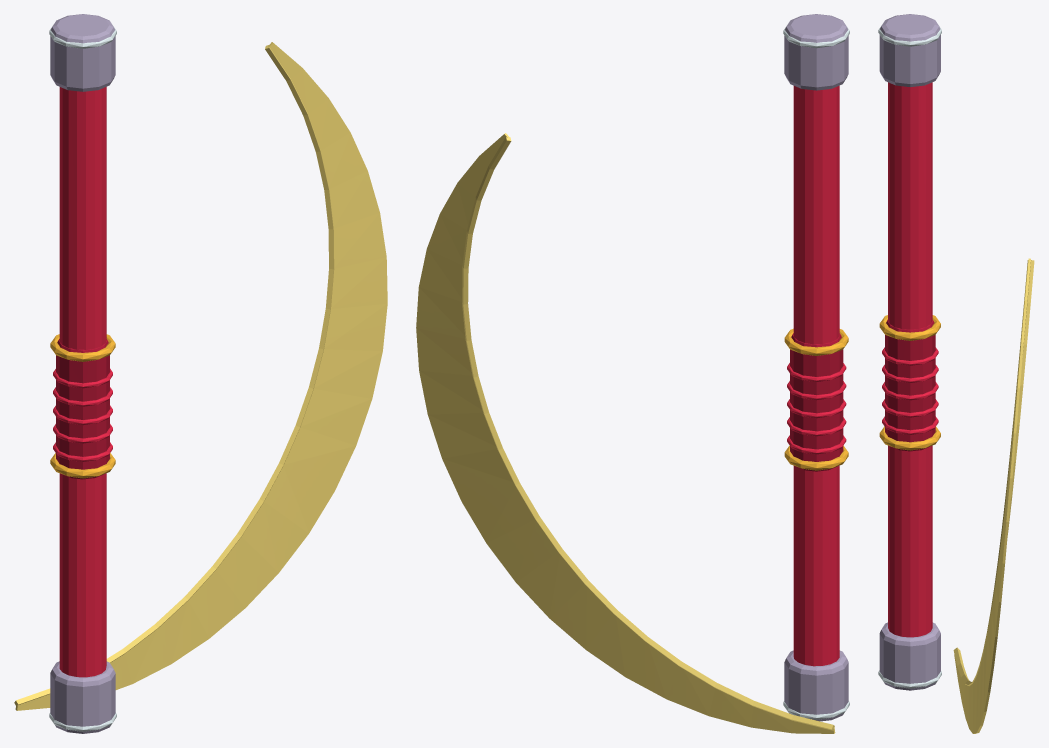
The model's file is PowerPole_GoldToy.fbx.
3 renders of one model, left to right at view 1: azimuth 30°, elevation 25°; view 2: azimuth 150°, elevation 25°; view 3: azimuth 270°, elevation 25°, orthographic. The views are drawn at different scales.
Visible parts, largest first — view 1: PowerPole_GoldToy__VFX__gold_energy, Handle, PowerPole_GoldToy__Body__gold, PowerPole_GoldToy__Body__stud_red, PowerPole_GoldToy__Body__hero_red, PowerPole_GoldToy__Body__silver; view 2: PowerPole_GoldToy__VFX__gold_energy, Handle, PowerPole_GoldToy__Body__gold, PowerPole_GoldToy__Body__stud_red, PowerPole_GoldToy__Body__hero_red, PowerPole_GoldToy__Body__silver; view 3: Handle, PowerPole_GoldToy__Body__gold, PowerPole_GoldToy__VFX__gold_energy, PowerPole_GoldToy__Body__stud_red, PowerPole_GoldToy__Body__hero_red, PowerPole_GoldToy__Body__silver.
Boxes of the visible parts, <box> form: PowerPole_GoldToy__VFX__gold_energy: <box>14,42,387,710</box>; Handle: <box>59,87,106,677</box>; PowerPole_GoldToy__Body__gold: <box>50,14,115,733</box>; PowerPole_GoldToy__Body__stud_red: <box>56,339,109,479</box>; PowerPole_GoldToy__Body__hero_red: <box>53,368,112,461</box>; PowerPole_GoldToy__Body__silver: <box>49,26,116,731</box>; PowerPole_GoldToy__VFX__gold_energy: <box>416,133,835,733</box>; Handle: <box>793,85,839,666</box>; PowerPole_GoldToy__Body__gold: <box>784,14,848,721</box>; PowerPole_GoldToy__Body__stud_red: <box>790,333,843,471</box>; PowerPole_GoldToy__Body__hero_red: <box>787,363,846,454</box>; PowerPole_GoldToy__Body__silver: <box>783,26,849,719</box>; Handle: <box>888,82,932,637</box>; PowerPole_GoldToy__Body__gold: <box>879,14,940,690</box>; PowerPole_GoldToy__VFX__gold_energy: <box>953,258,1034,733</box>; PowerPole_GoldToy__Body__stud_red: <box>885,319,935,451</box>; PowerPole_GoldToy__Body__hero_red: <box>882,347,938,434</box>; PowerPole_GoldToy__Body__silver: <box>878,24,941,688</box>.
Size of the model in its own units: 2.03 by 3.44 by 0.7359.
5 materials, 5 textured.
